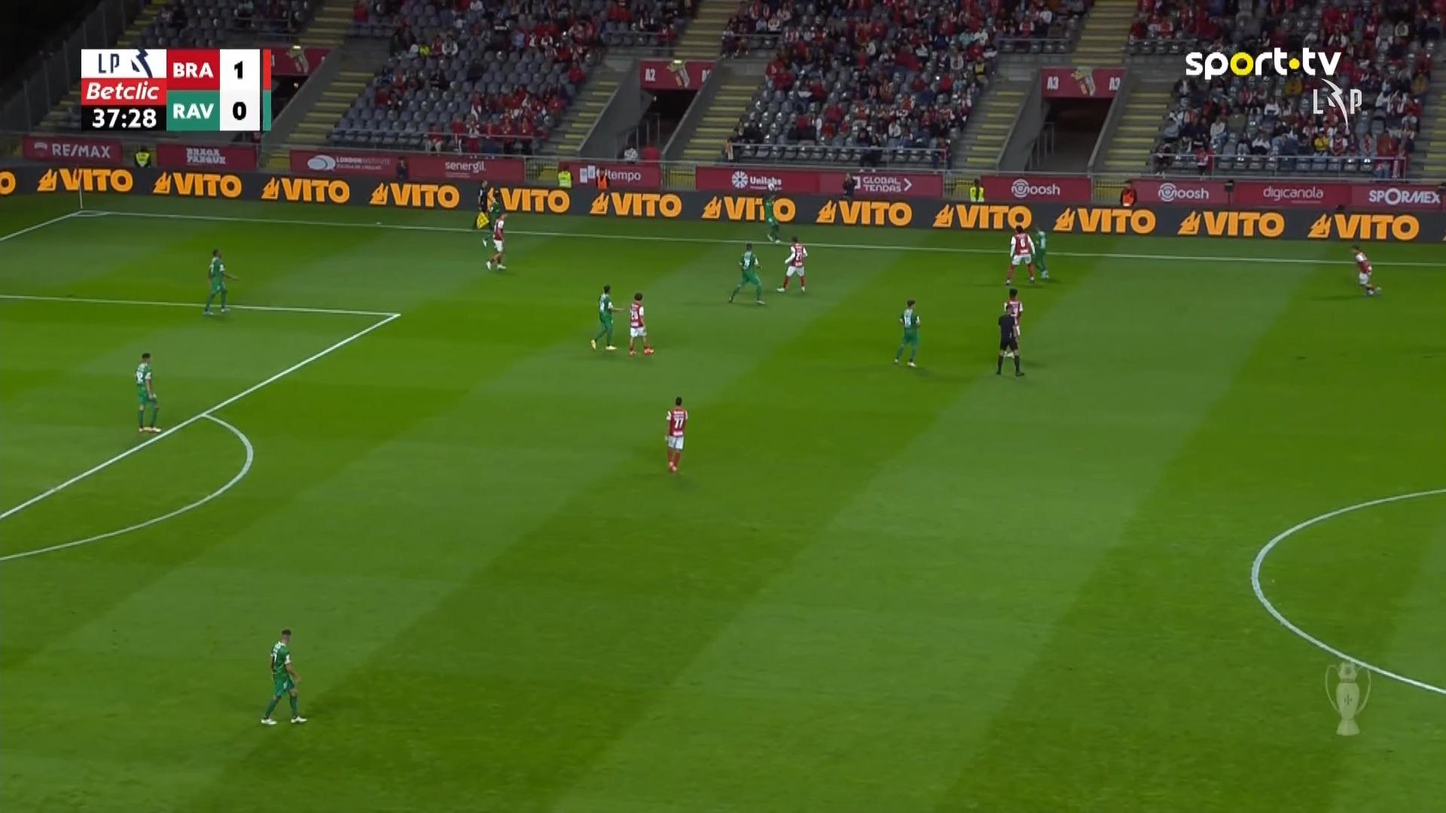ball: (768, 183, 775, 190)
player: (260, 627, 308, 724), (202, 248, 238, 315), (728, 242, 765, 306), (134, 351, 162, 432), (589, 284, 622, 351), (892, 298, 921, 367), (1004, 224, 1036, 285), (663, 395, 688, 472), (776, 235, 807, 293), (626, 291, 654, 355), (1350, 243, 1381, 297), (485, 211, 507, 270), (1002, 287, 1023, 338), (1031, 223, 1050, 279), (762, 190, 782, 242)
referee: (995, 302, 1024, 376), (474, 178, 494, 229)
